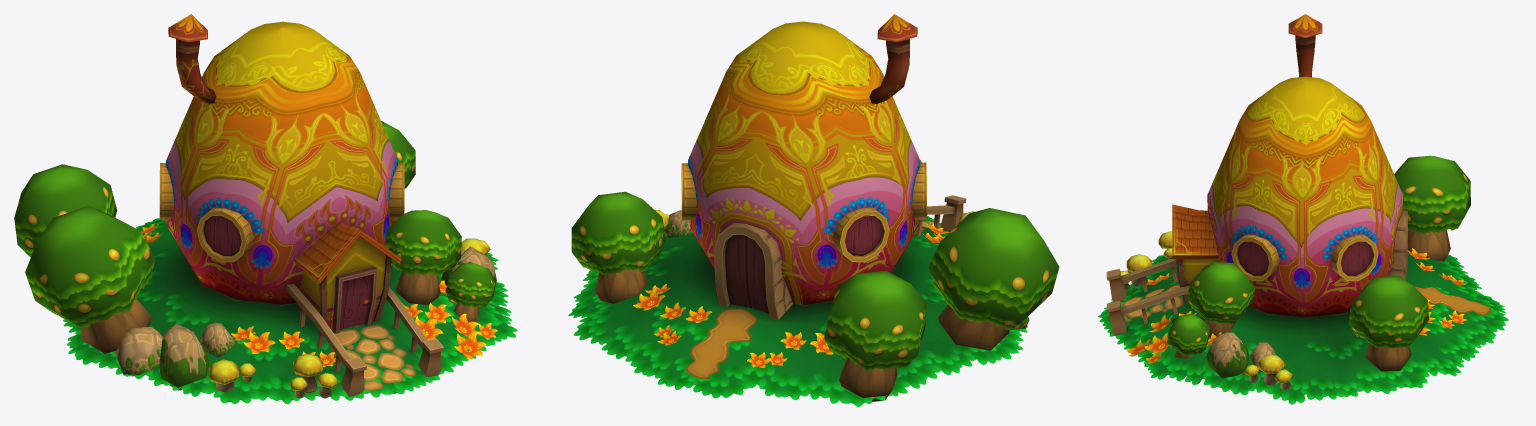
File: Egg_House_02.FBX
The picture shows the model from 3 angles, left to right: view 1: azimuth 30°, elevation 25°; view 2: azimuth 150°, elevation 25°; view 3: azimuth 270°, elevation 25°; orthographic projection. The views are drawn at different scales.
Visible parts, largest first — view 1: Egg_House_02; view 2: Egg_House_02; view 3: Egg_House_02.
Boxes of the visible parts, bbox=[...] form: Egg_House_02: bbox=[14, 14, 517, 404]; Egg_House_02: bbox=[568, 14, 1059, 406]; Egg_House_02: bbox=[1098, 14, 1508, 404].
Bounding box in the file's own units: 489 × 322 × 467.
